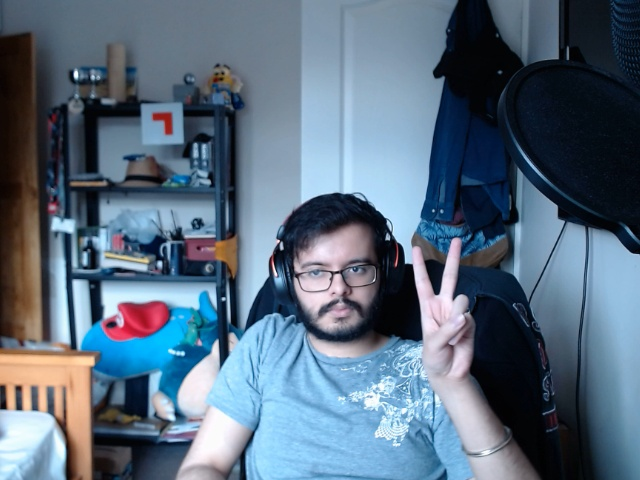Peace: (408, 232, 492, 383)
